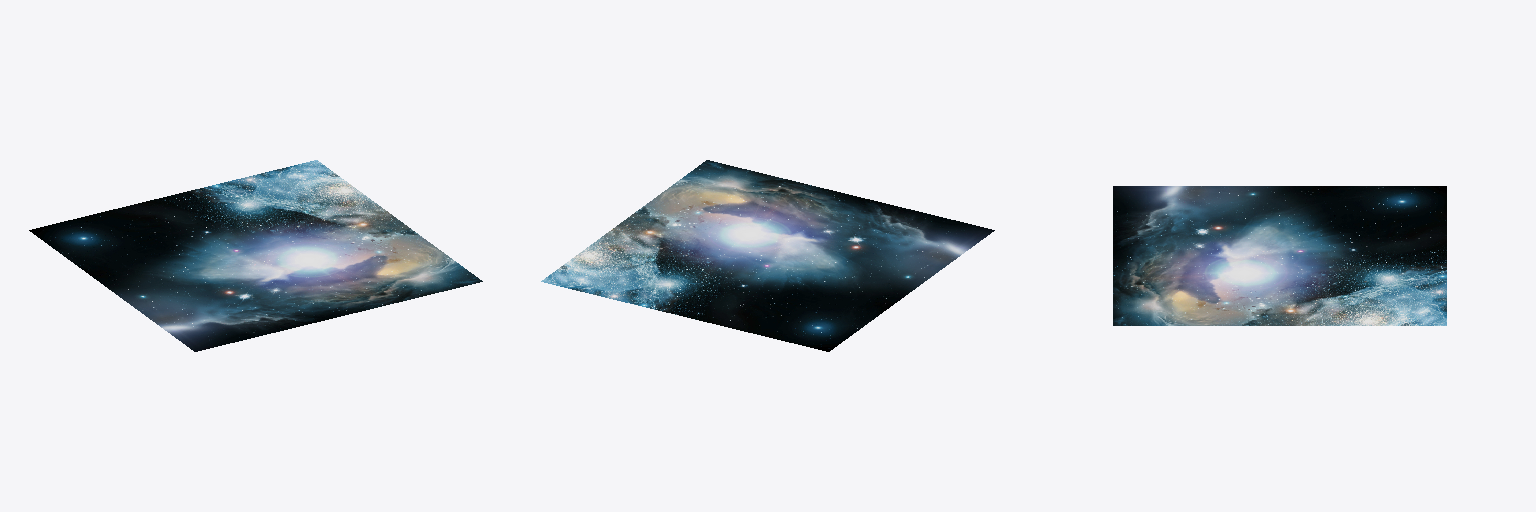
3 renders of one model, left to right at view 1: azimuth 30°, elevation 25°; view 2: azimuth 150°, elevation 25°; view 3: azimuth 270°, elevation 25°, orthographic.
Parts seen in each view (by area): view 1: Plane; view 2: Plane; view 3: Plane.
Part boxes in pixels (x1,y1,x2,y2): Plane: (29,160,482,351); Plane: (541,160,994,351); Plane: (1113,186,1446,325).
Size of the model in its own units: 6.03 by 0 by 6.03.
1 materials, 1 textured.